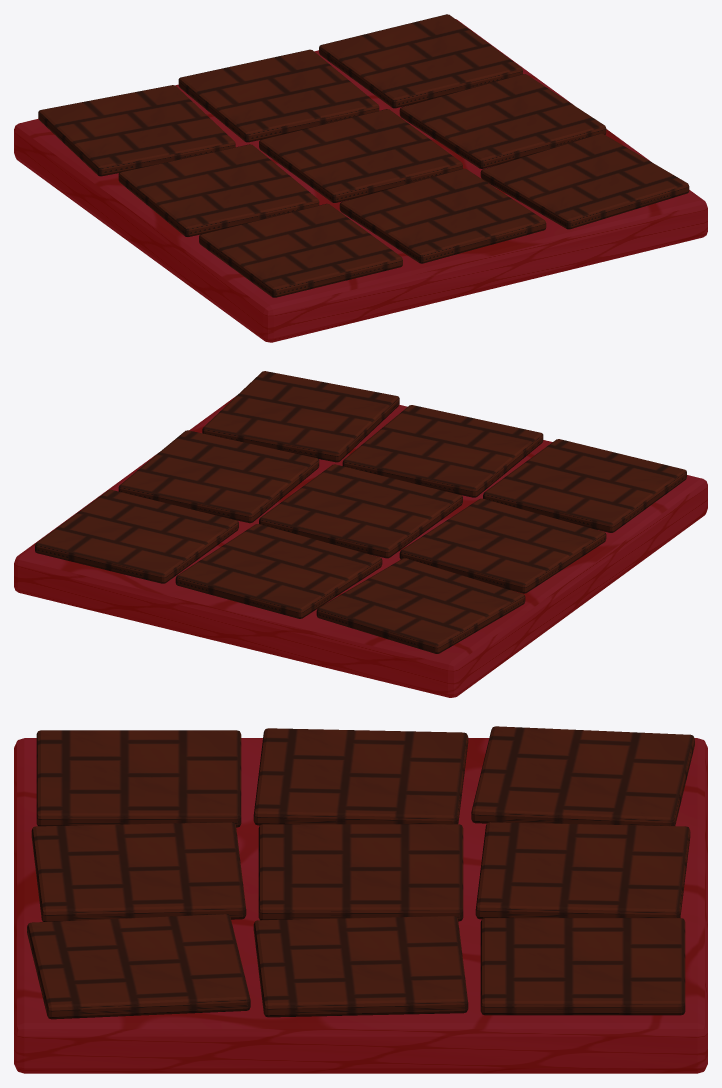
Rendered from SM_FC_FloorTile_400.glb.
The picture shows the model from 3 angles, top to bottom: view 1: azimuth 30°, elevation 25°; view 2: azimuth 150°, elevation 25°; view 3: azimuth 270°, elevation 25°; orthographic projection. The views are drawn at different scales.
Visible parts, largest first — view 1: SM_FC_FloorTile_400; view 2: SM_FC_FloorTile_400; view 3: SM_FC_FloorTile_400.
Part boxes in pixels (x1,y1,x2,y2): SM_FC_FloorTile_400: [14, 14, 707, 342]; SM_FC_FloorTile_400: [14, 371, 707, 697]; SM_FC_FloorTile_400: [14, 726, 707, 1073].
Size of the model in its own units: 4 by 0.415 by 4.
Materials: 2 (2 with a texture image).
